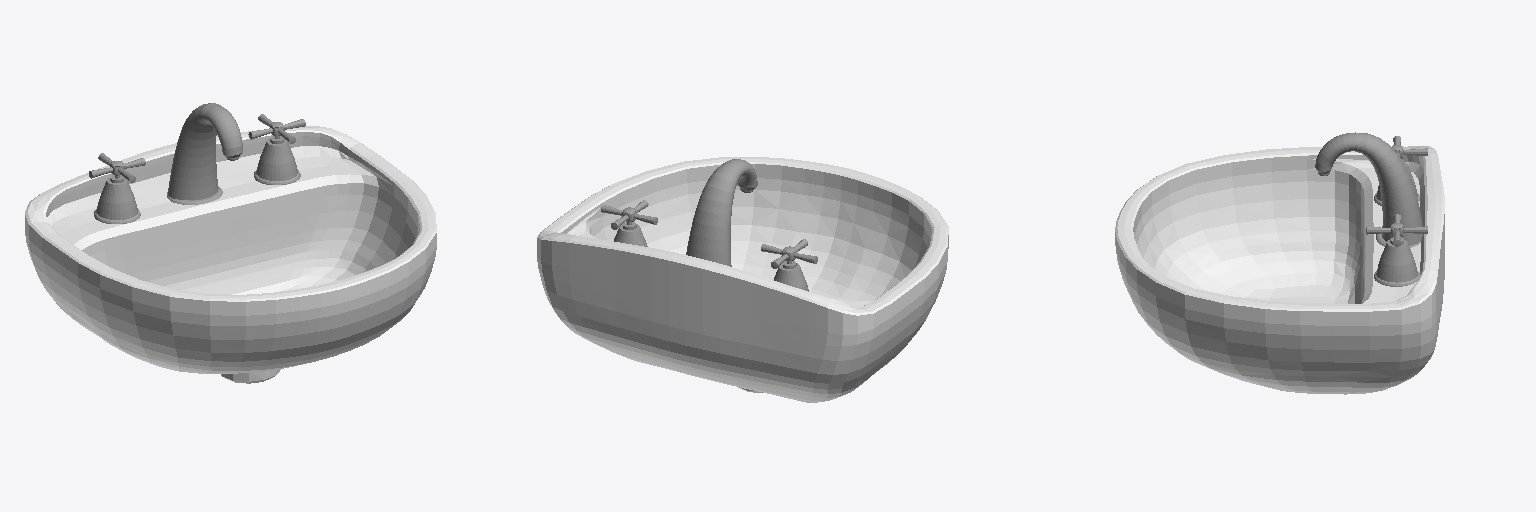
The model's file is small_lavatory.obj.
3 renders of one model, left to right at view 1: azimuth 30°, elevation 25°; view 2: azimuth 150°, elevation 25°; view 3: azimuth 270°, elevation 25°, orthographic.
Visible parts, largest first — view 1: Lavatory_Lavatorio, Tap_Canilla_toscana, Key01_Canilla1, Key02_Canilla1.001; view 2: Lavatory_Lavatorio, Tap_Canilla_toscana, Key01_Canilla1, Key02_Canilla1.001; view 3: Lavatory_Lavatorio, Tap_Canilla_toscana, Key02_Canilla1.001.
Boxes of the visible parts, x1=… form: Lavatory_Lavatorio: x1=25, y1=126, x2=436, y2=383; Tap_Canilla_toscana: x1=167, y1=103, x2=242, y2=204; Key01_Canilla1: x1=89, y1=153, x2=145, y2=223; Key02_Canilla1.001: x1=248, y1=114, x2=305, y2=184; Lavatory_Lavatorio: x1=537, y1=157, x2=948, y2=402; Tap_Canilla_toscana: x1=686, y1=159, x2=757, y2=266; Key01_Canilla1: x1=761, y1=239, x2=817, y2=291; Key02_Canilla1.001: x1=601, y1=200, x2=657, y2=246; Lavatory_Lavatorio: x1=1115, y1=146, x2=1444, y2=394; Tap_Canilla_toscana: x1=1315, y1=132, x2=1422, y2=247; Key02_Canilla1.001: x1=1366, y1=214, x2=1427, y2=286.
Bounding box in the file's own units: 50.01 × 34.44 × 42.39.